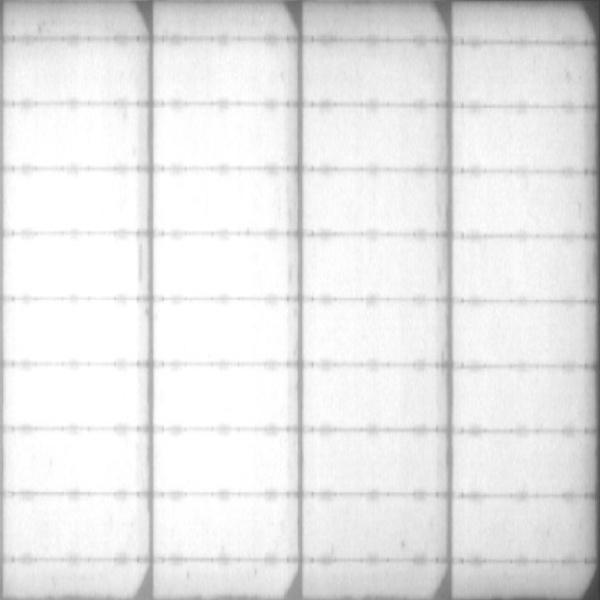hot_spot: (8, 499, 144, 552), (165, 435, 292, 488), (11, 304, 142, 353), (11, 435, 138, 485), (171, 372, 287, 426), (157, 309, 287, 356), (11, 374, 139, 420), (163, 244, 283, 292), (162, 503, 281, 551), (11, 247, 132, 291), (18, 183, 139, 223), (161, 180, 266, 222)
